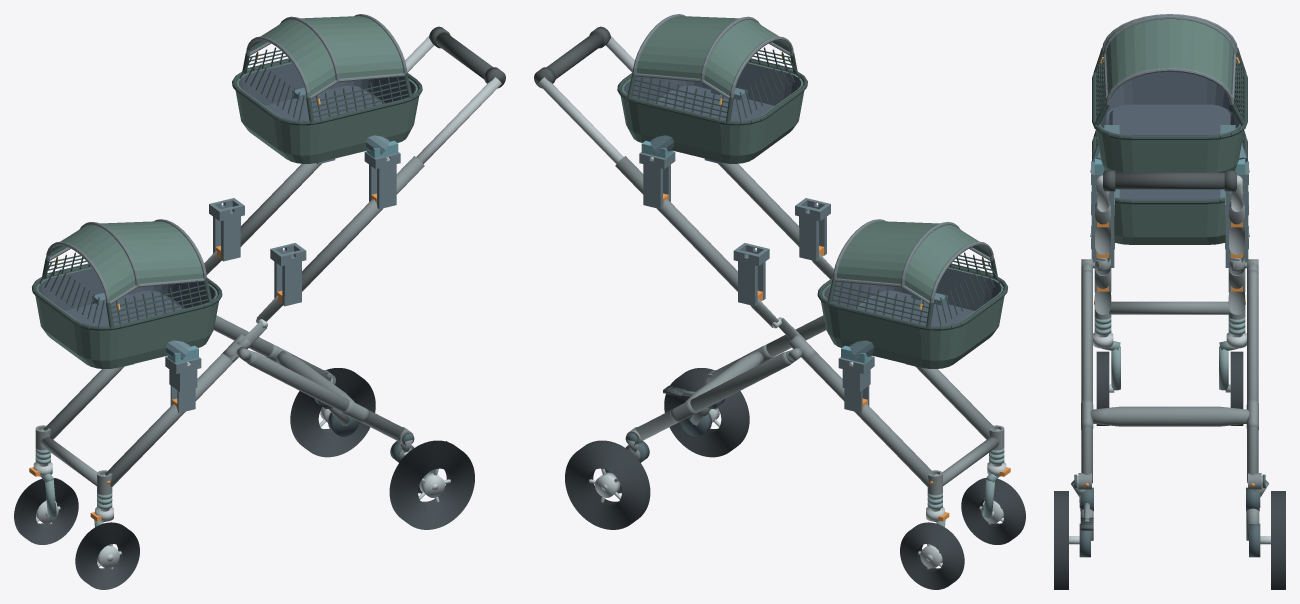
File: D01_w380_state1_wheel_S.glb
3 views of the same model, side by side, from view 1: azimuth 30°, elevation 25°; view 2: azimuth 150°, elevation 25°; view 3: azimuth 270°, elevation 25° (orthographic). The views are drawn at different scales.
Visible parts, largest first — view 1: D01_Upper, D01_Lower, RL_tire.009, RR_tire.009, FL_tire.009, FR_tire.009, main_lower_-1, V46_rear_leg_-1.002, main_upper_-1, Universal_Cabin_Receiver_M_-1, Universal_Cabin_Receiver_M_1, main_upper_1 (+10 smaller); view 2: D01_Upper, D01_Lower, RR_tire.009, RL_tire.009, FR_tire.009, FL_tire.009, main_lower_1, V46_rear_leg_1.002, main_upper_1, Universal_Cabin_Receiver_M_1, Universal_Cabin_Receiver_M_-1, main_upper_-1 (+10 smaller); view 3: D01_Upper, D01_Lower, V46_rearbar.002, V46_rear_leg_1.002, V46_rear_leg_-1.002, round_handle.010, front_fixed_round_tube, RL_tire.009, RR_tire.009, FL_tire.009, FR_tire.009, D01_Upper_Mount_H (+16 smaller).
Boxes of the visible parts, <box> form: D01_Upper: <box>232,14,422,163</box>; D01_Lower: <box>32,219,222,368</box>; RL_tire.009: <box>389,440,474,529</box>; RR_tire.009: <box>290,368,375,457</box>; FL_tire.009: <box>75,522,139,589</box>; FR_tire.009: <box>14,478,78,544</box>; main_lower_-1: <box>105,353,237,486</box>; V46_rear_leg_-1.002: <box>247,351,404,440</box>; main_upper_-1: <box>302,156,424,291</box>; Universal_Cabin_Receiver_M_-1: <box>270,243,306,306</box>; Universal_Cabin_Receiver_M_1: <box>209,198,244,261</box>; main_upper_1: <box>240,163,321,246</box>; D01_Upper: <box>617,14,807,163</box>; D01_Lower: <box>817,219,1007,368</box>; RR_tire.009: <box>565,440,650,529</box>; RL_tire.009: <box>664,368,749,457</box>; FR_tire.009: <box>900,522,964,589</box>; FL_tire.009: <box>961,478,1025,544</box>; main_lower_1: <box>802,353,934,486</box>; V46_rear_leg_1.002: <box>635,351,792,440</box>; main_upper_1: <box>615,156,737,291</box>; Universal_Cabin_Receiver_M_1: <box>733,243,769,306</box>; Universal_Cabin_Receiver_M_-1: <box>795,198,830,261</box>; main_upper_-1: <box>718,163,799,246</box>; D01_Upper: <box>1092,14,1247,172</box>; D01_Lower: <box>1092,130,1247,244</box>; V46_rearbar.002: <box>1090,406,1249,426</box>; V46_rear_leg_1.002: <box>1247,269,1258,483</box>; V46_rear_leg_-1.002: <box>1081,269,1092,483</box>; round_handle.010: <box>1103,172,1236,189</box>; front_fixed_round_tube: <box>1109,301,1230,314</box>; RL_tire.009: <box>1054,491,1068,589</box>; RR_tire.009: <box>1271,491,1285,589</box>; FL_tire.009: <box>1096,351,1109,425</box>; FR_tire.009: <box>1230,351,1243,425</box>; D01_Upper_Mount_H: <box>1090,125,1249,174</box>.
Bounding box in the file's own units: 1.09 × 1.18 × 0.4671.
